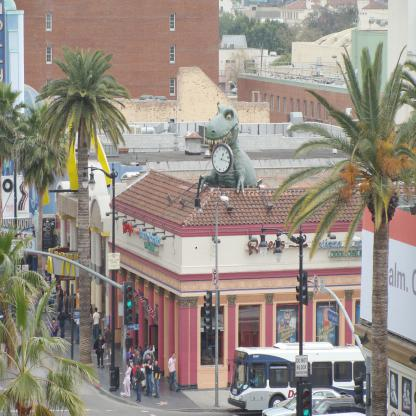Bus: (224, 337, 370, 411)
